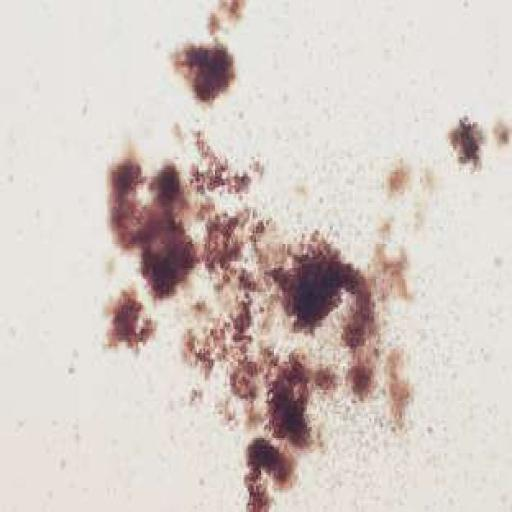CFU-GEMM: (107, 126, 405, 510), (108, 159, 195, 294), (172, 37, 233, 105), (172, 41, 235, 102)
